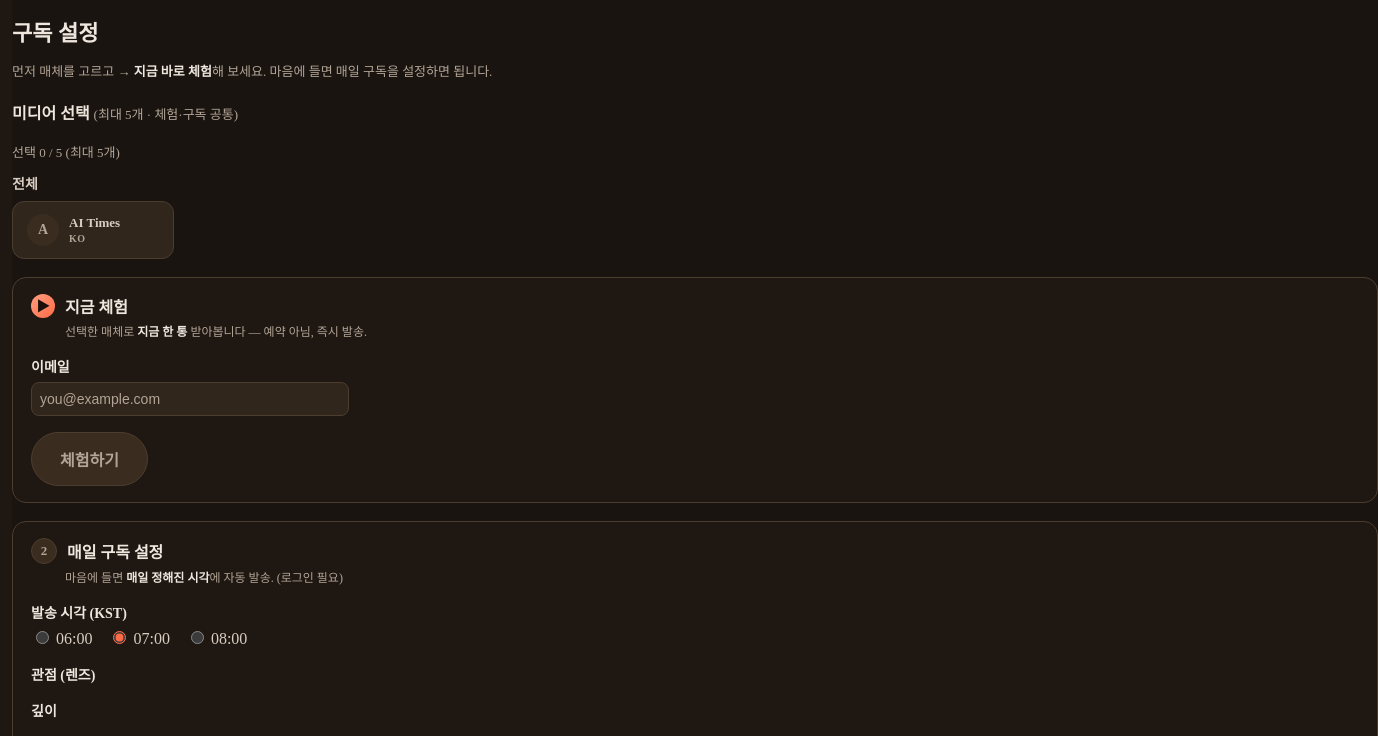
Test: v1.1f CTA 코랄 pill › 체험하기 = primary coral pill (first, cta-coral); sibling = ghost; disabled gate preserved
Check: the button "체험하기" is shown, box [31,432,148,486]
Check: the button "체험하기" is disabled, box [31,432,148,486]
Click the checkbox labelled "AI Times": (74,230) [27,214,120,246]
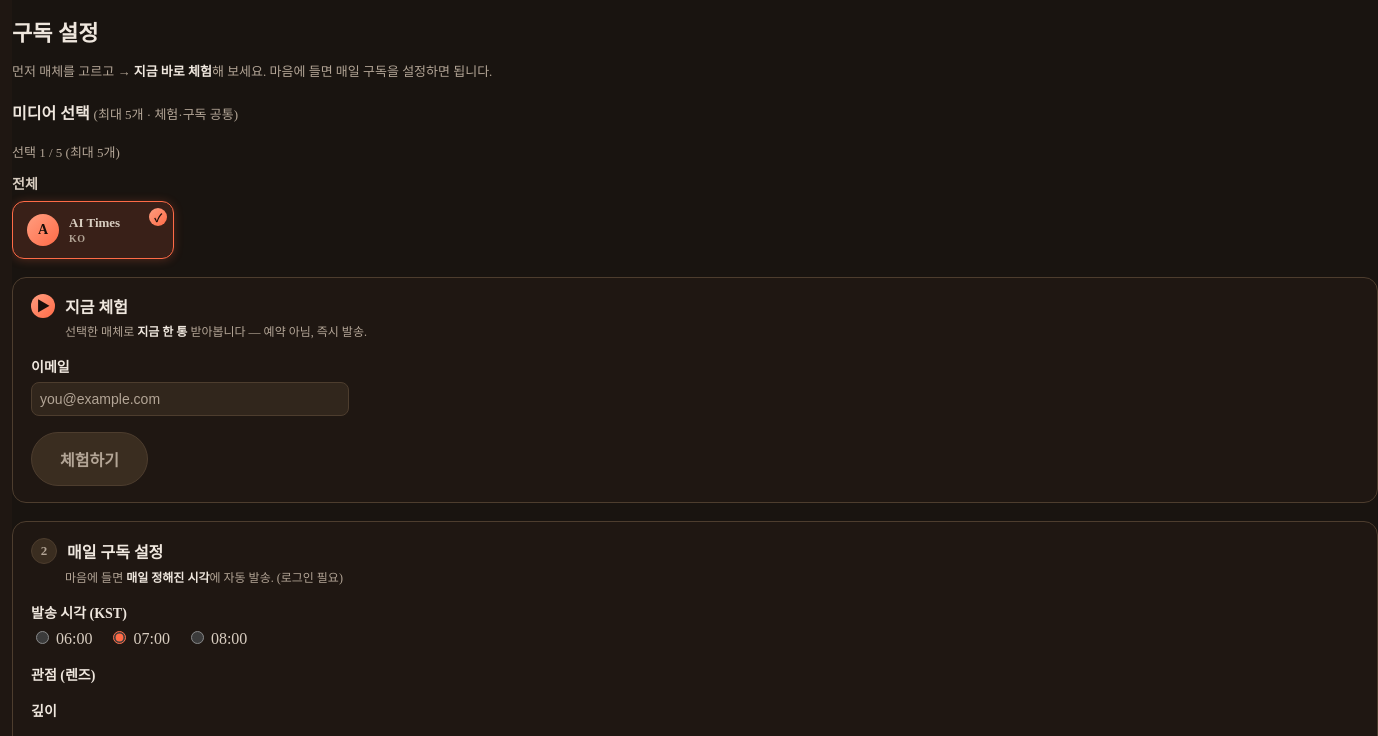
In the field with placeholder "you@example.com": (190,399) [31,382,349,416], type "u@x.com"
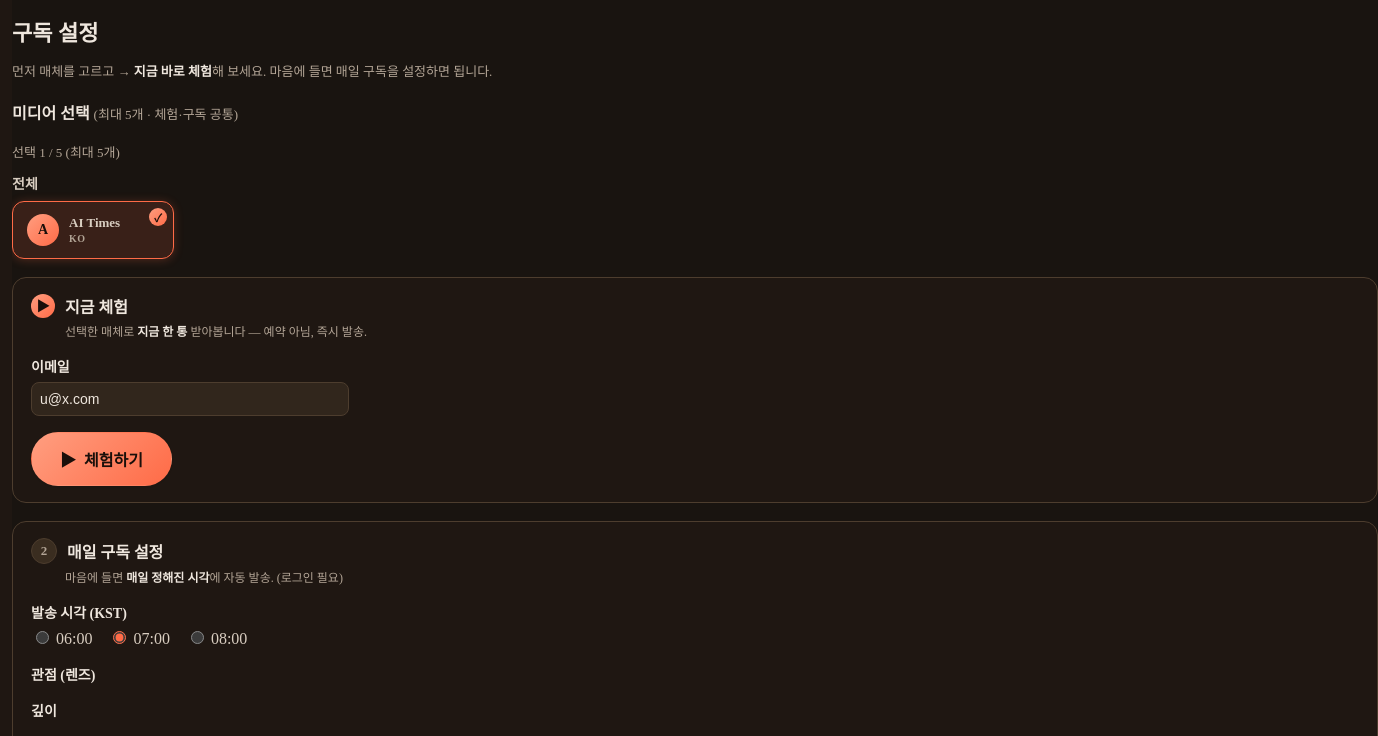
Check: the button "▶ 체험하기" is enabled, box [31,432,172,486]
